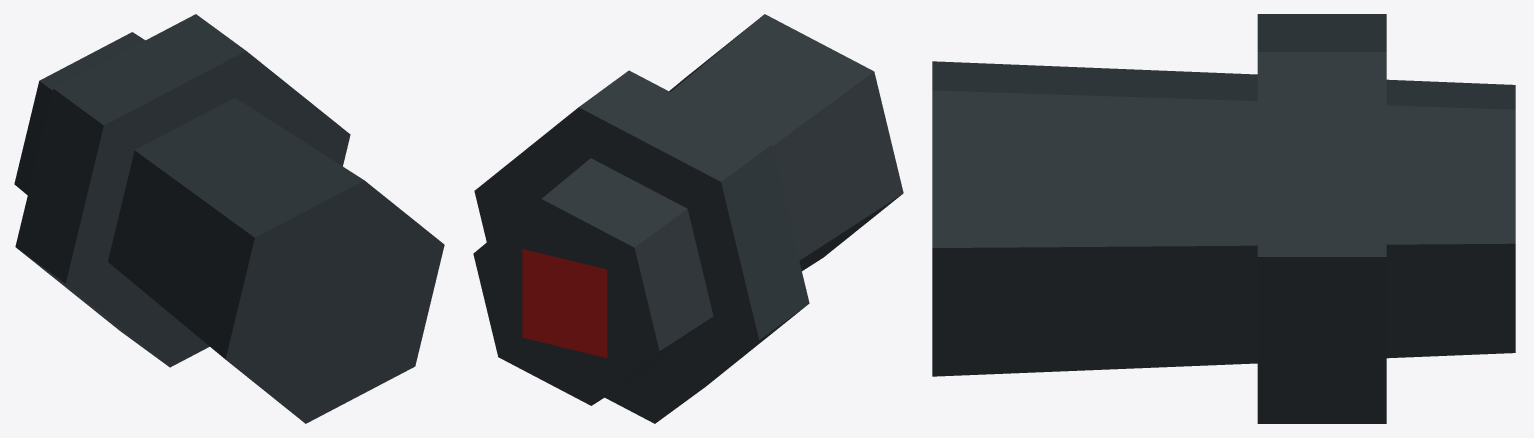
The picture shows the model from 3 angles, left to right: view 1: azimuth 30°, elevation 25°; view 2: azimuth 150°, elevation 25°; view 3: azimuth 270°, elevation 25°; orthographic projection. The views are drawn at different scales.
Visible parts, largest first — view 1: mount; view 2: mount; view 3: mount.
Boxes of the visible parts, bbox=[...] form: mount: bbox=[14, 14, 444, 423]; mount: bbox=[473, 14, 903, 423]; mount: bbox=[932, 14, 1515, 423].
Size of the model in its own units: 3.26 by 3.26 by 4.55.
